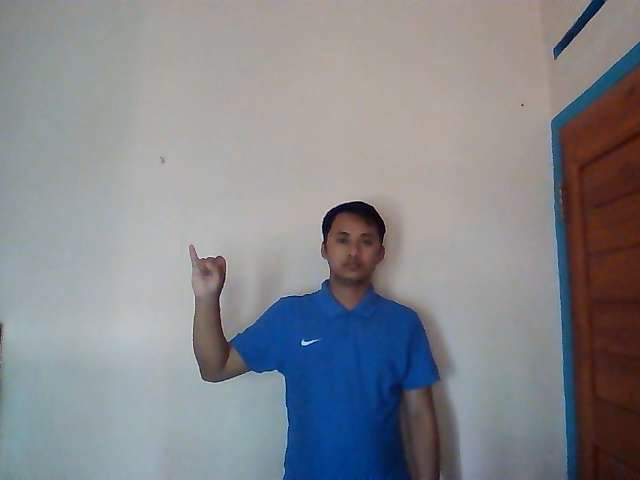I: (187, 242, 228, 297)
